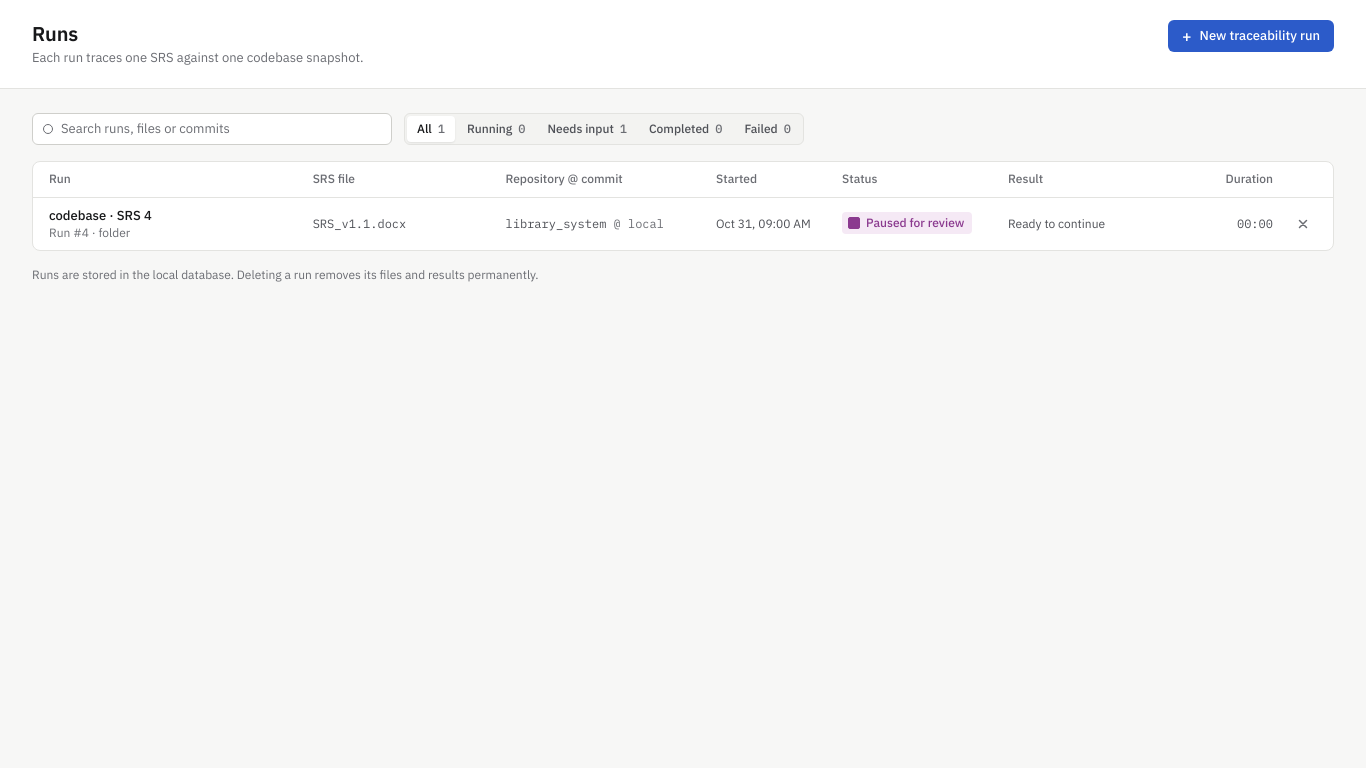
Scenario: delete run modal › shows a failed delete inside the dialog
The width and height of the screenshot is (1366, 768).
Step 1. Click the button named "Delete run 4" → (1303, 224), box [1289, 210, 1317, 238]
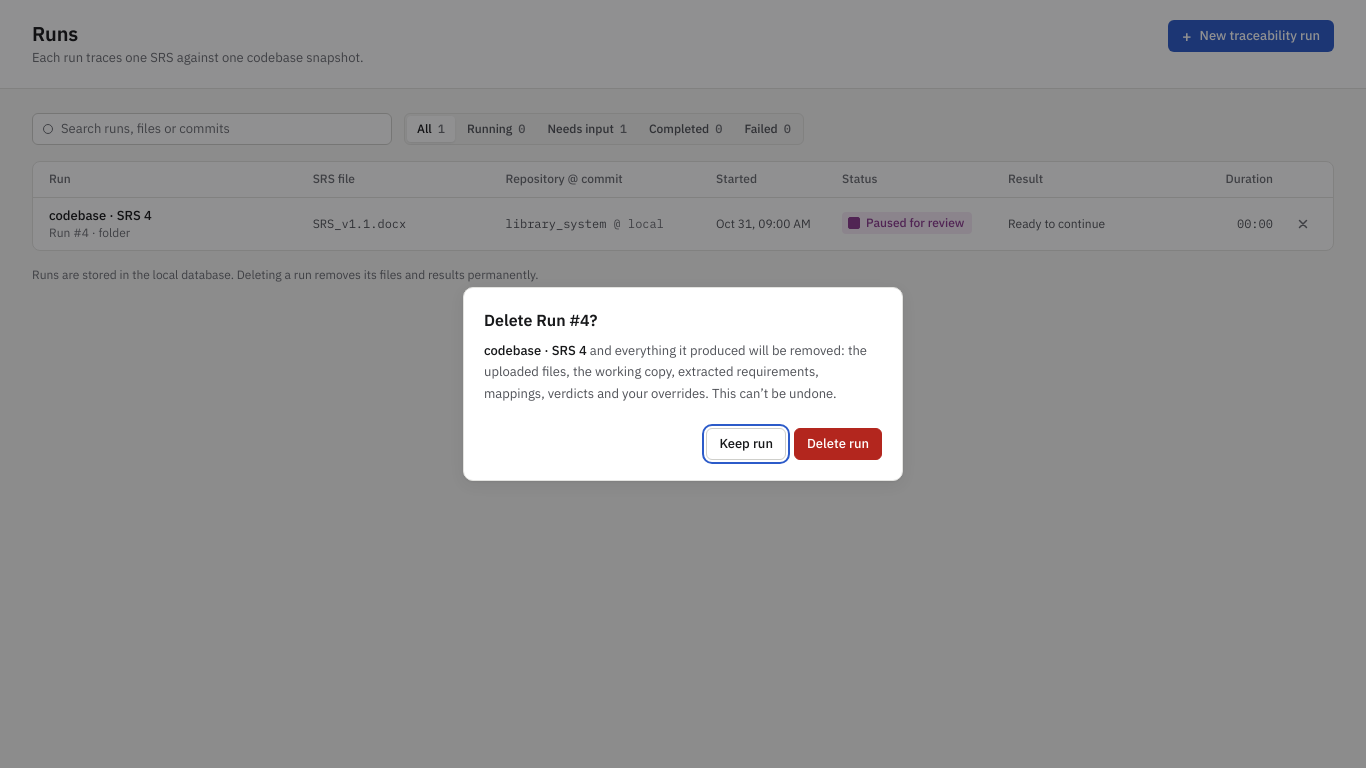
Step 2. Click the button "Delete run" → (838, 444), box [794, 428, 882, 460]
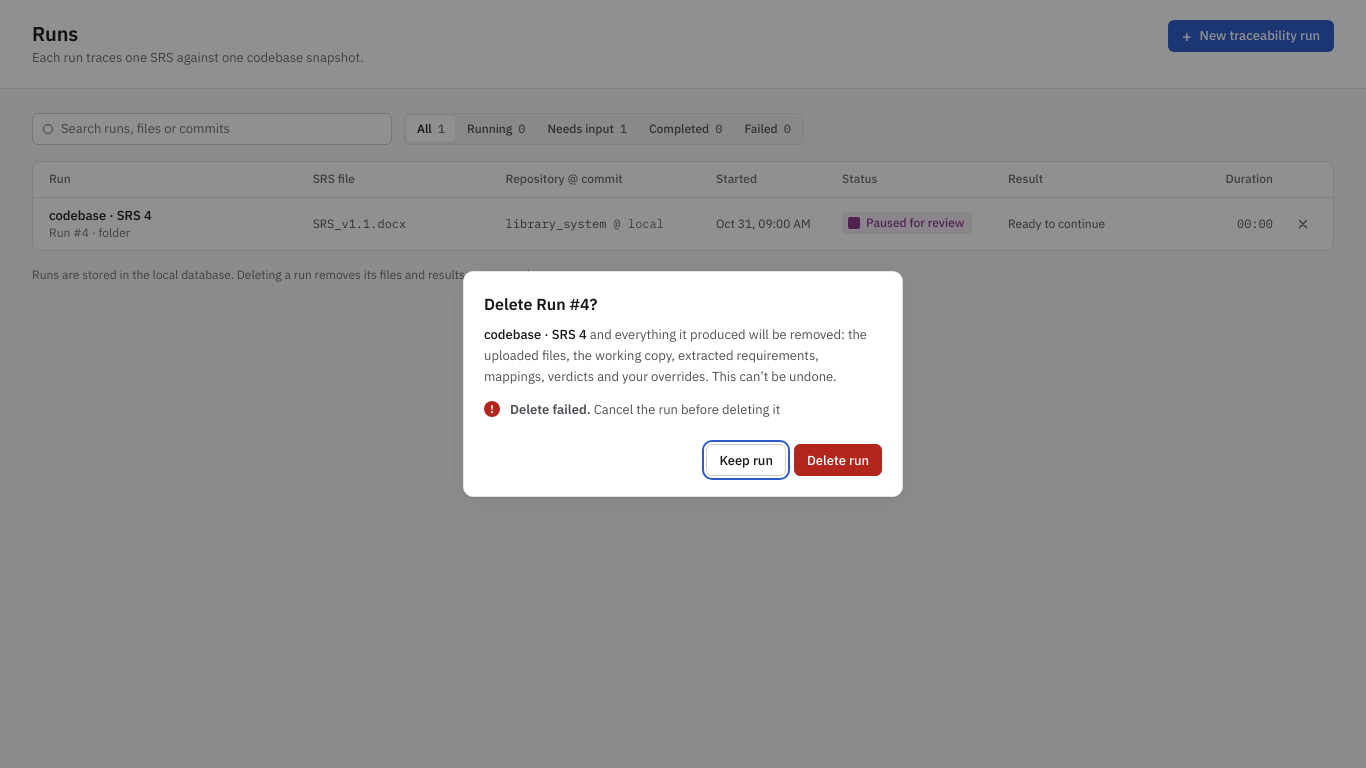
Check: the dialog is shown, box [463, 271, 903, 497]
Check: the text "Cancel the run before deleting it" is shown, box [594, 401, 780, 418]
